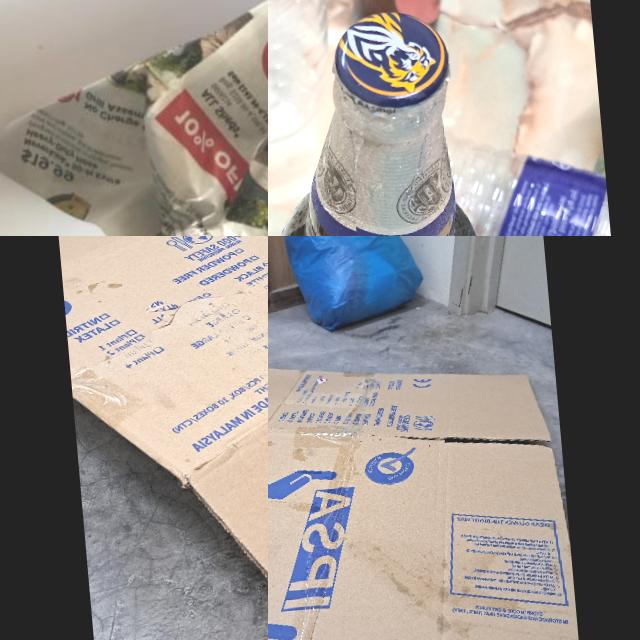garrafa de vidro: (268, 6, 497, 236), (346, 0, 473, 40)
garrafa plástica: (429, 124, 615, 236), (268, 0, 339, 151)
papel: (0, 0, 268, 236)
papelão: (268, 336, 589, 640), (46, 236, 268, 640)
sacola plástica: (279, 236, 426, 335)
